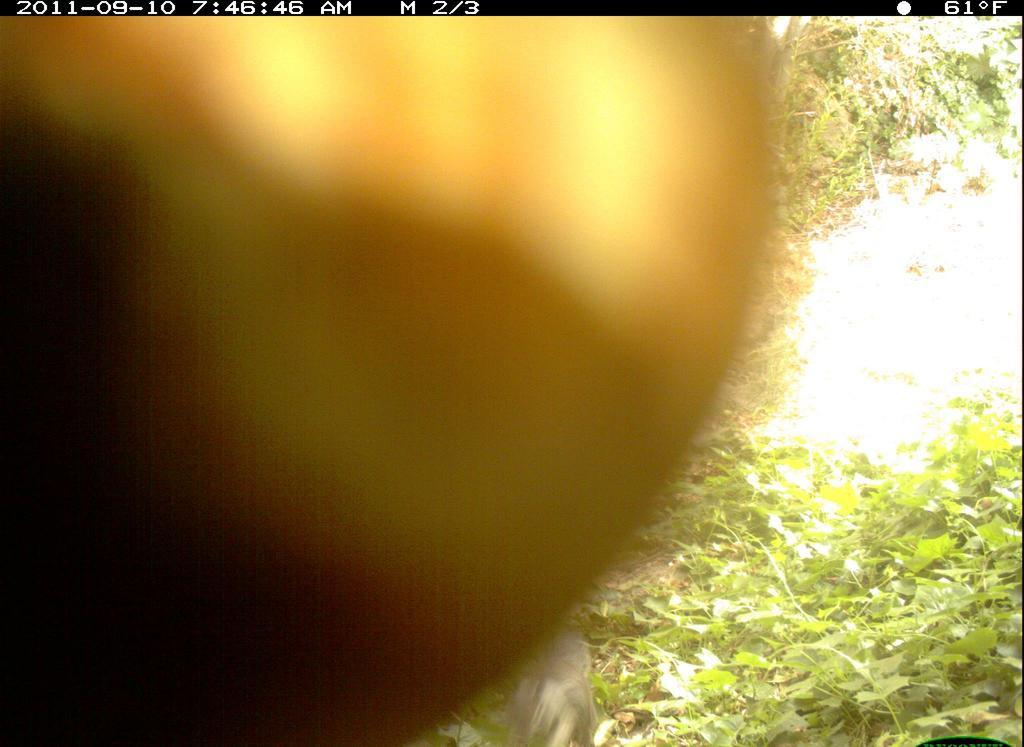squirrel: (505, 598, 619, 747)
